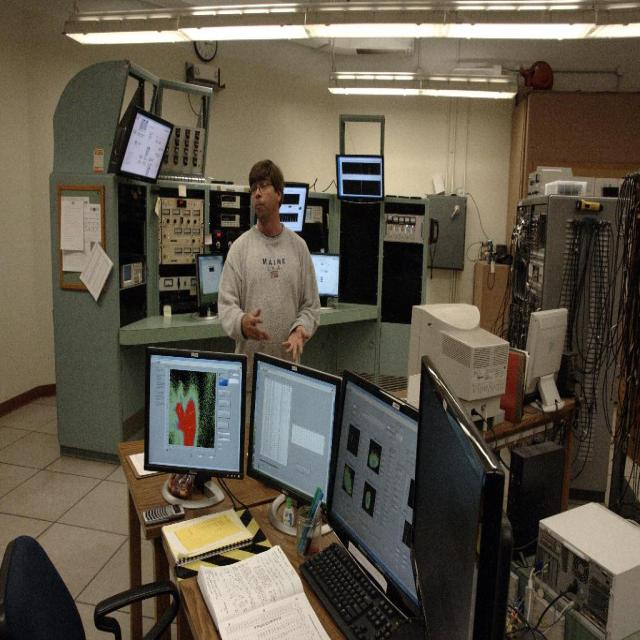chair: (0, 533, 178, 637)
desk: (69, 426, 373, 638)
keyboard: (297, 542, 425, 637)
person: (216, 158, 322, 364)
tv: (412, 354, 512, 636), (324, 367, 420, 614), (248, 349, 343, 509), (145, 349, 248, 478), (335, 153, 384, 200), (310, 253, 340, 303), (279, 183, 309, 232)
